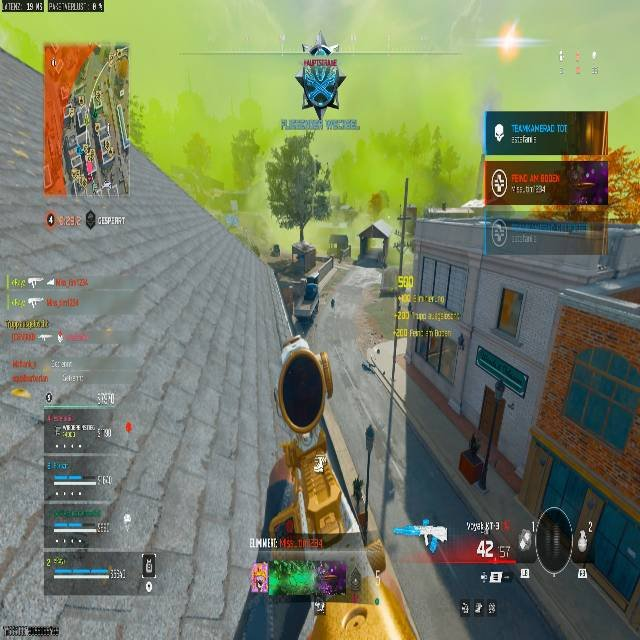player: (293, 42, 346, 119), (271, 243, 279, 256)
